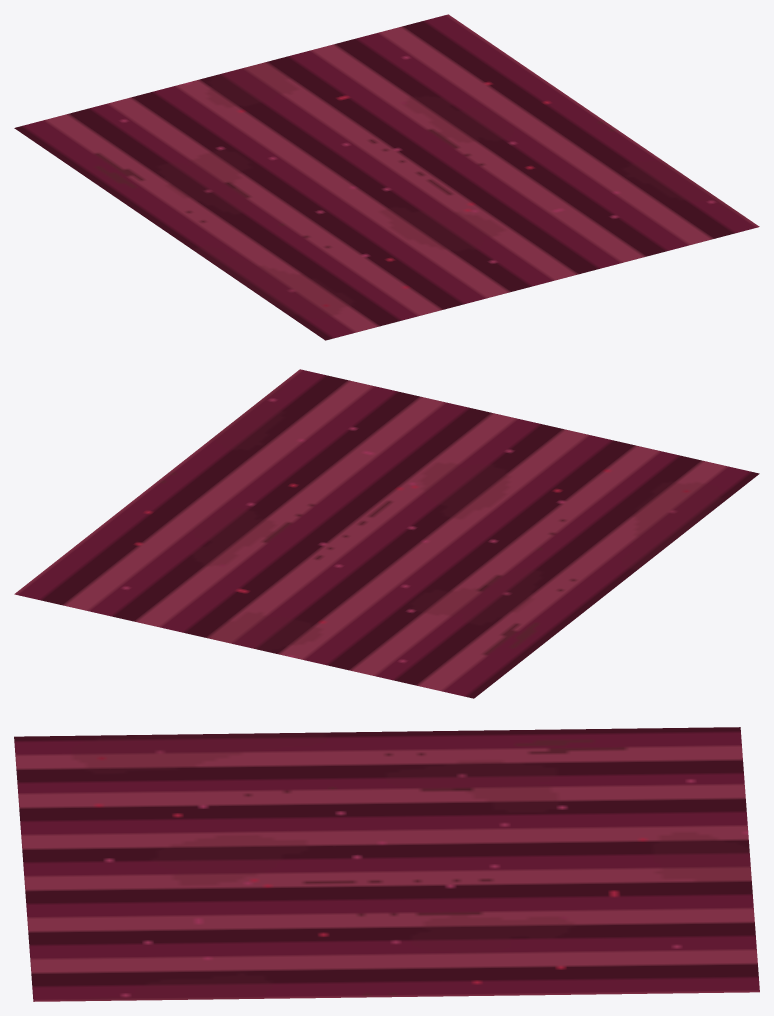
File: Tapete.fbx
The picture shows the model from 3 angles, top to bottom: view 1: azimuth 30°, elevation 25°; view 2: azimuth 150°, elevation 25°; view 3: azimuth 270°, elevation 25°; orthographic projection. The views are drawn at different scales.
Parts seen in each view (by area): view 1: Tapete; view 2: Tapete; view 3: Tapete.
Part boxes in pixels (x1,y1,x2,y2): Tapete: (14,14,759,340); Tapete: (14,369,759,698); Tapete: (14,727,759,1001).
Size of the model in its own units: 428 by 491 by 0.
